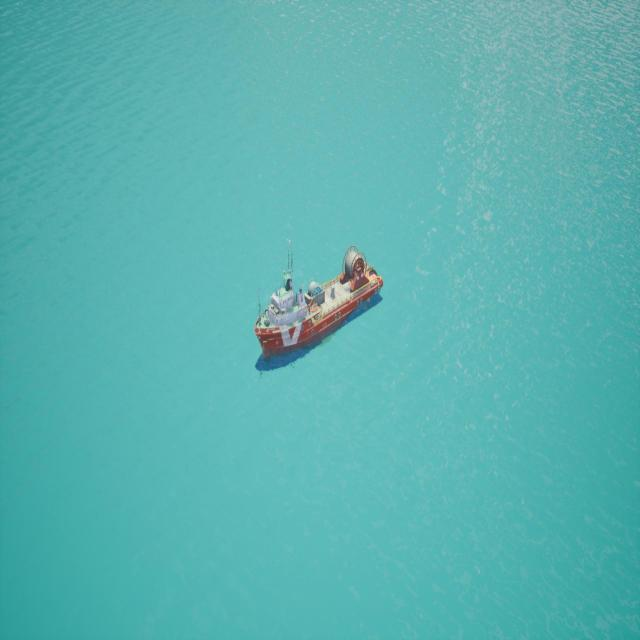tug boat: (242, 234, 417, 371)
